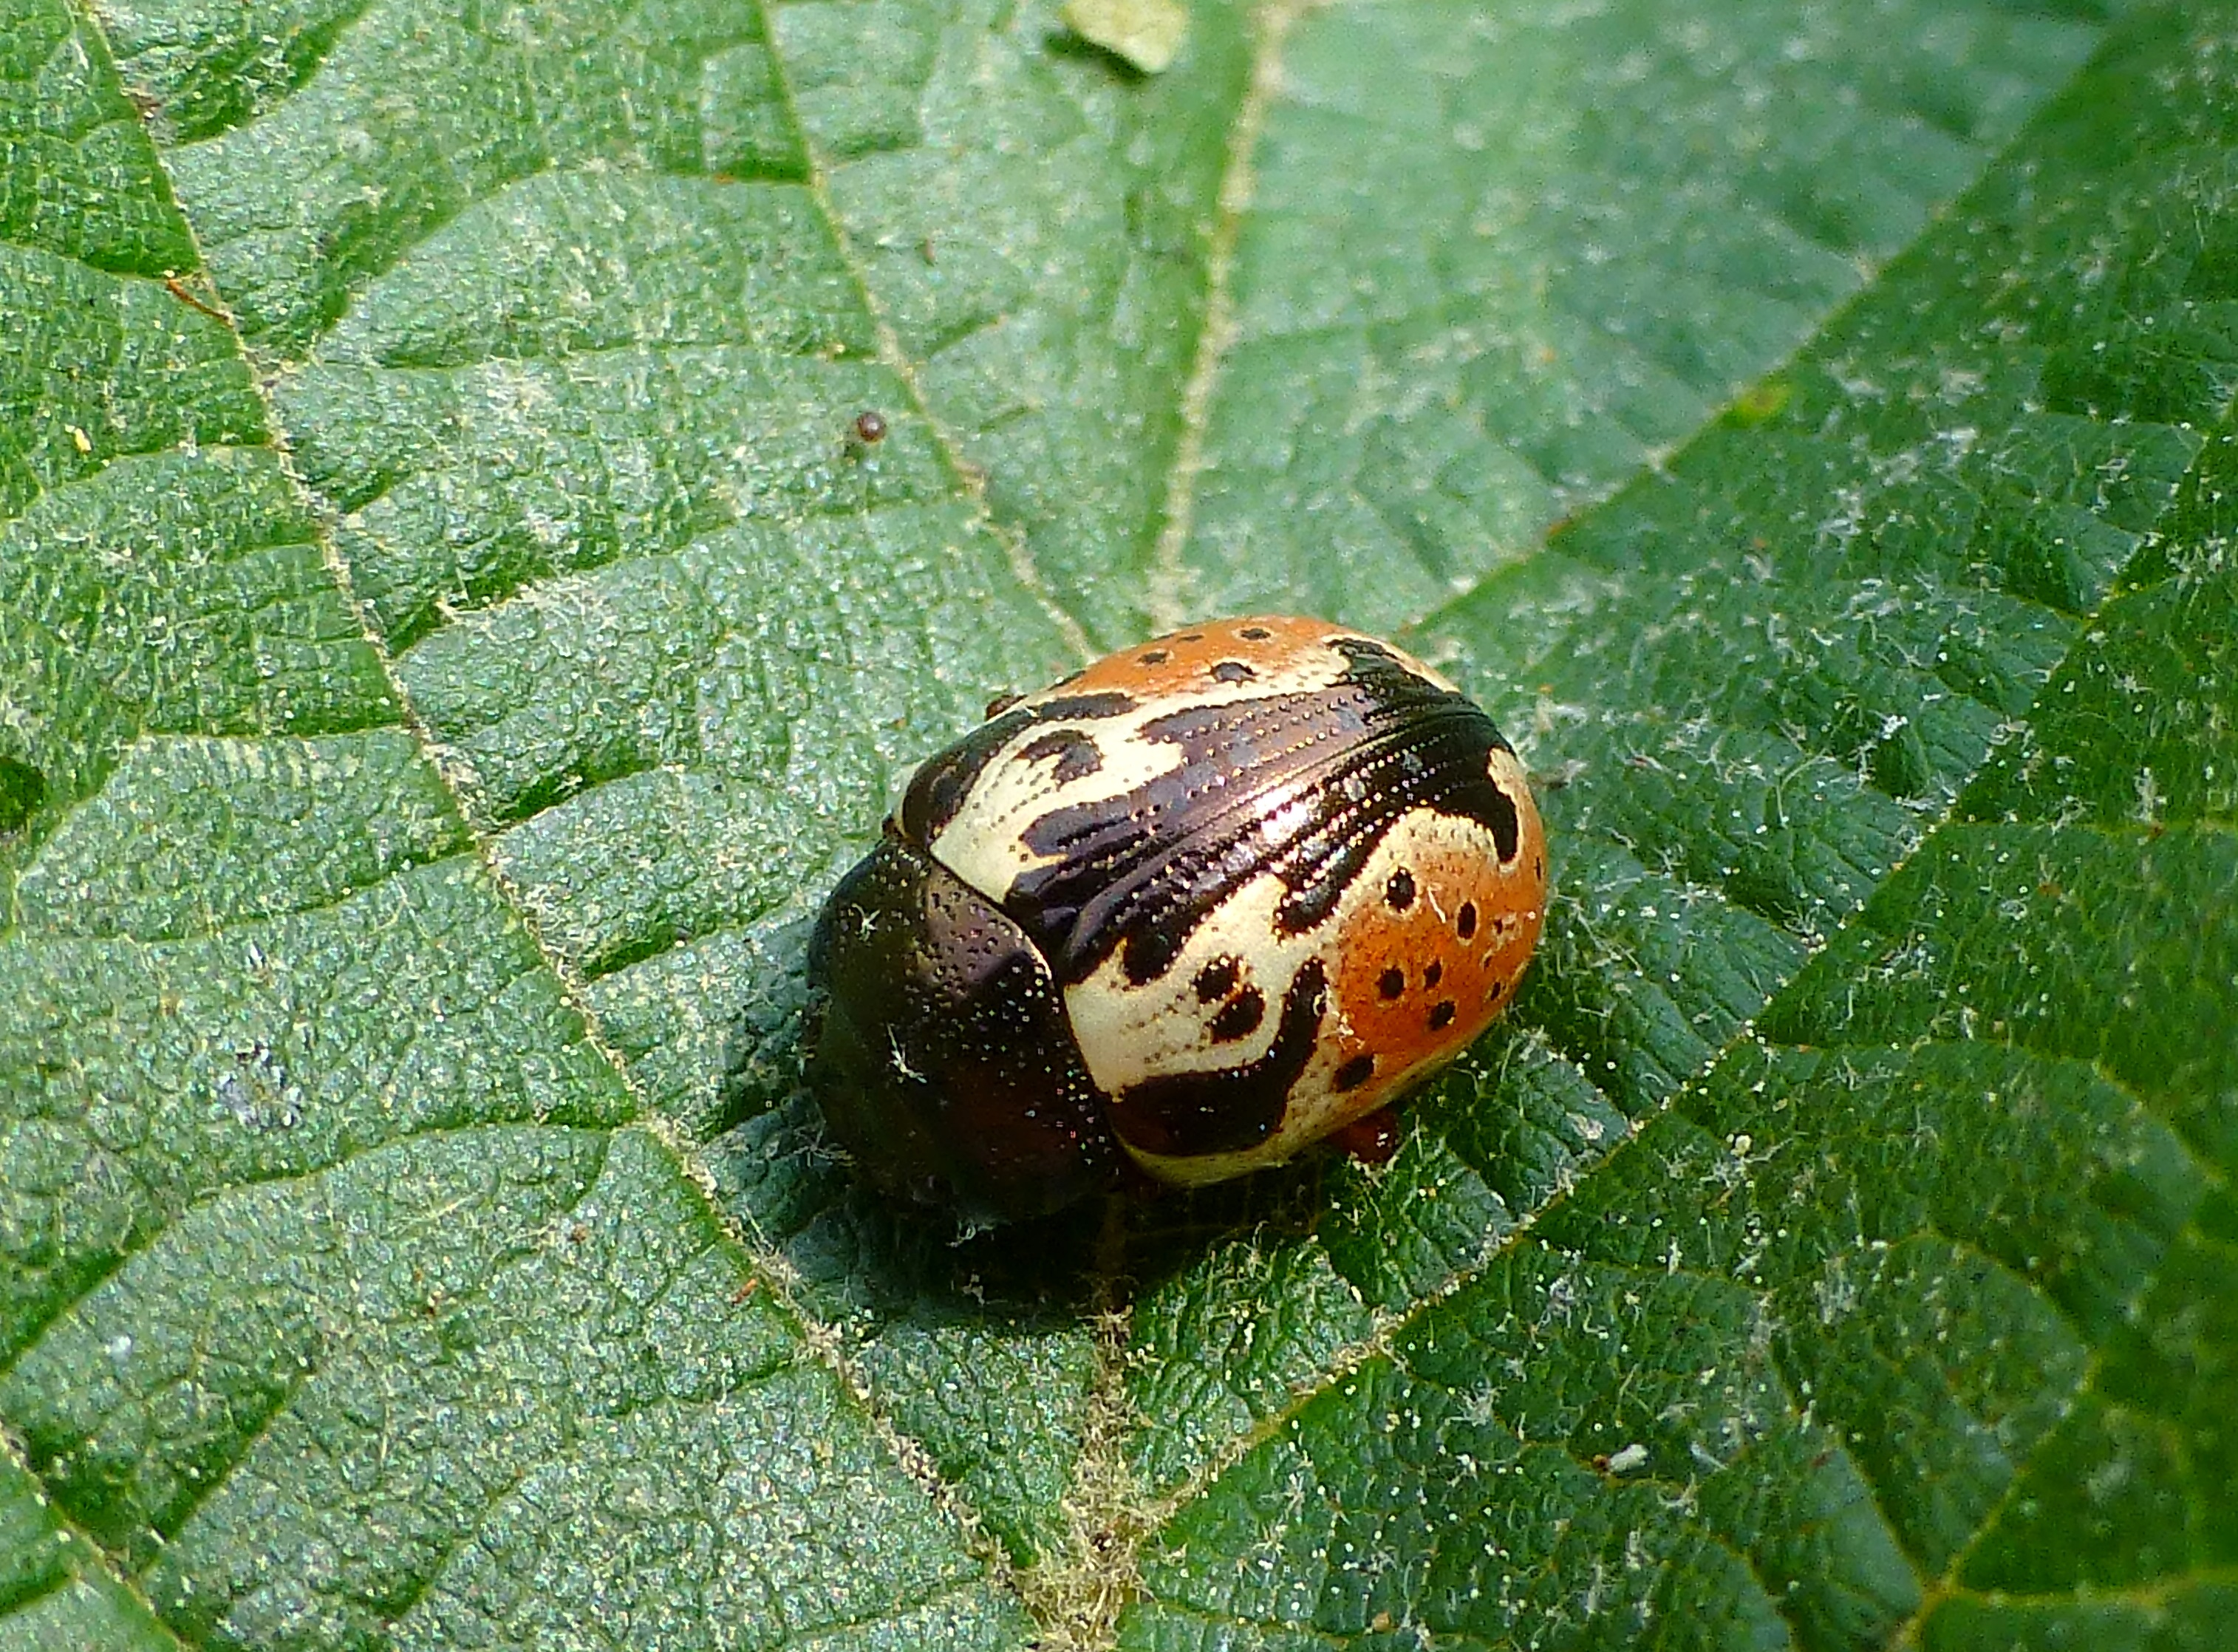Calligrapha beetle: (733, 485, 1612, 1301)
